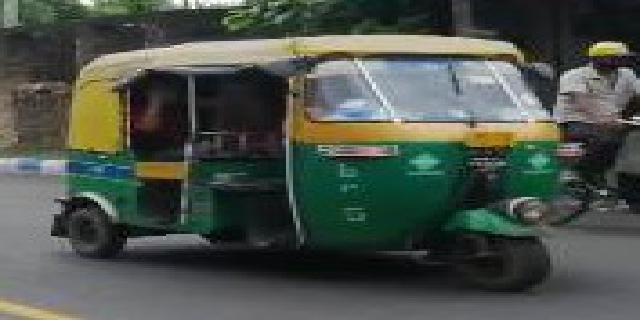Autorickshaw: (49, 24, 566, 298)
